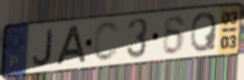3: (125, 17, 149, 61)
6: (161, 14, 188, 56)
A: (54, 24, 88, 68)
C: (92, 20, 122, 64)
J: (31, 27, 54, 67)
Q: (189, 11, 219, 54)
